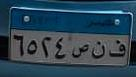2: (40, 34, 53, 59)
4: (54, 35, 67, 62)
5: (26, 38, 38, 57)
6: (12, 33, 25, 58)
faa: (108, 38, 127, 60)
noon: (92, 40, 106, 61)
saad: (71, 42, 89, 60)
